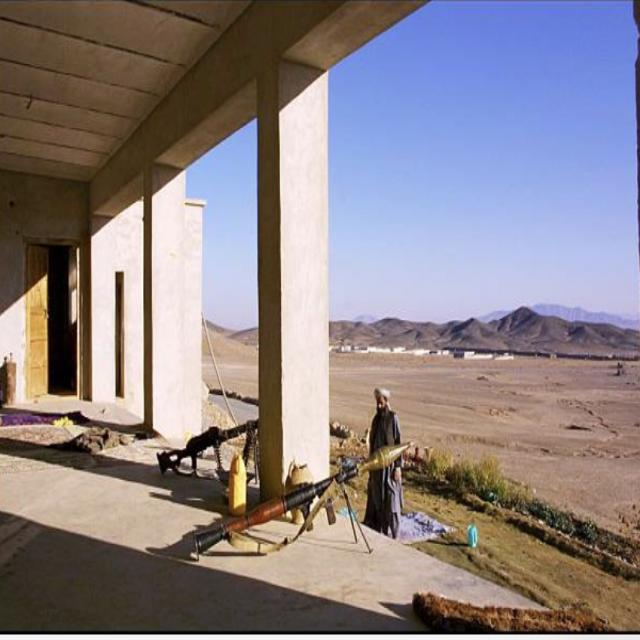bazooka: (165, 437, 432, 569)
